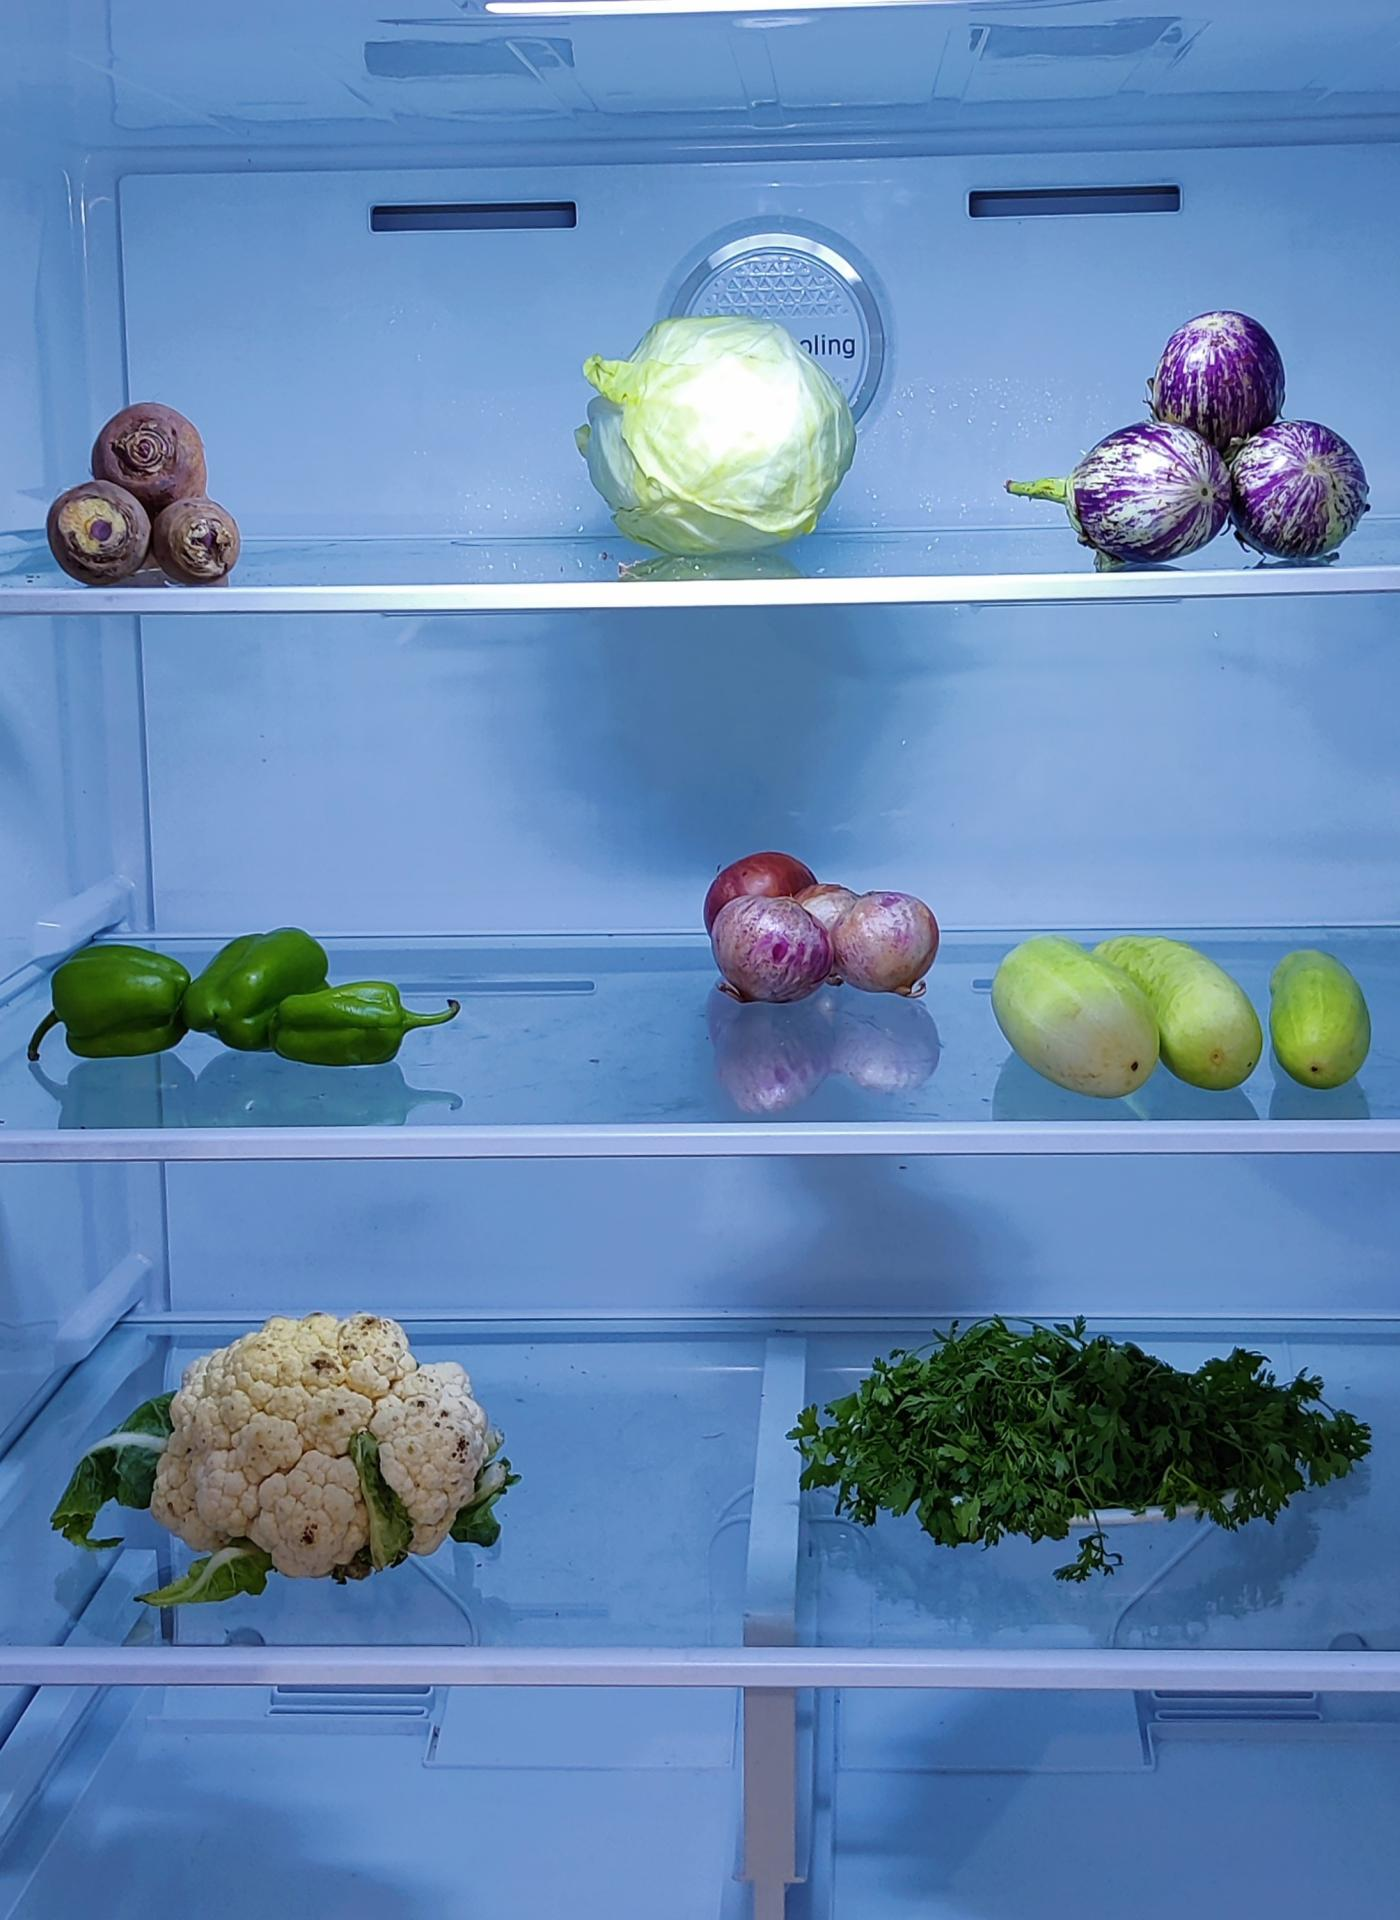brinjal: (1057, 312, 1346, 560)
cabbage: (587, 319, 863, 555)
capsicum: (33, 933, 452, 1076)
carrots: (46, 402, 247, 596)
cauliflower: (152, 1307, 507, 1582)
coriander: (801, 1324, 1366, 1553)
cucumber: (1000, 918, 1385, 1096)
onion: (702, 845, 942, 1008)
